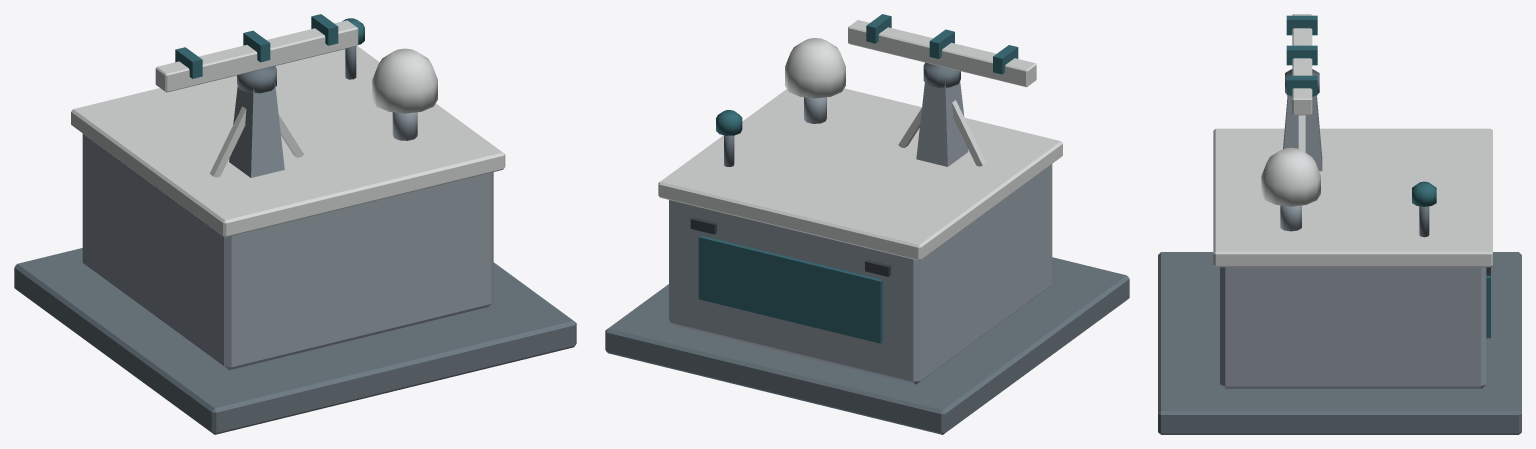
The model's file is MOD_EwSuite.fbx.
3 views of the same model, side by side, from view 1: azimuth 30°, elevation 25°; view 2: azimuth 150°, elevation 25°; view 3: azimuth 270°, elevation 25° (orthographic). The views are drawn at different scales.
Visible parts, largest first — view 1: MOD_EwSuite_Root_Visual, AntennaPivot_Visual; view 2: MOD_EwSuite_Root_Visual, AntennaPivot_Visual; view 3: MOD_EwSuite_Root_Visual, AntennaPivot_Visual.
Boxes of the visible parts, left/top/right/bottom form: MOD_EwSuite_Root_Visual: left=14, top=18, right=576, bottom=434; AntennaPivot_Visual: left=155, top=14, right=358, bottom=92; MOD_EwSuite_Root_Visual: left=605, top=38, right=1129, bottom=434; AntennaPivot_Visual: left=848, top=14, right=1036, bottom=87; MOD_EwSuite_Root_Visual: left=1158, top=69, right=1521, bottom=434; AntennaPivot_Visual: left=1286, top=14, right=1317, bottom=115.
Size of the model in its own units: 172 by 140 by 164.
